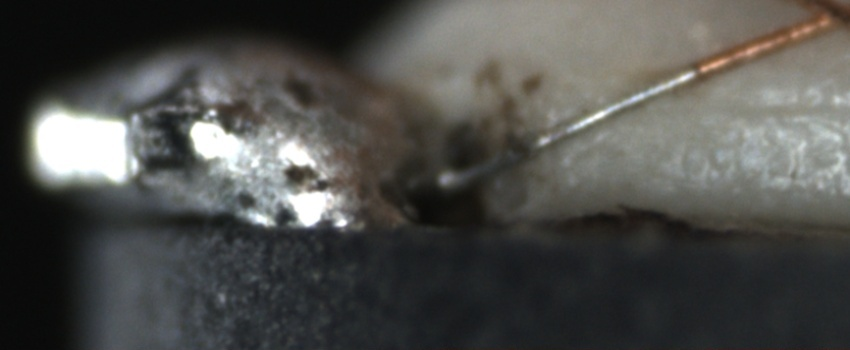CL: (773, 0, 848, 42)
DL: (700, 79, 850, 142)
TS: (439, 66, 699, 193)
